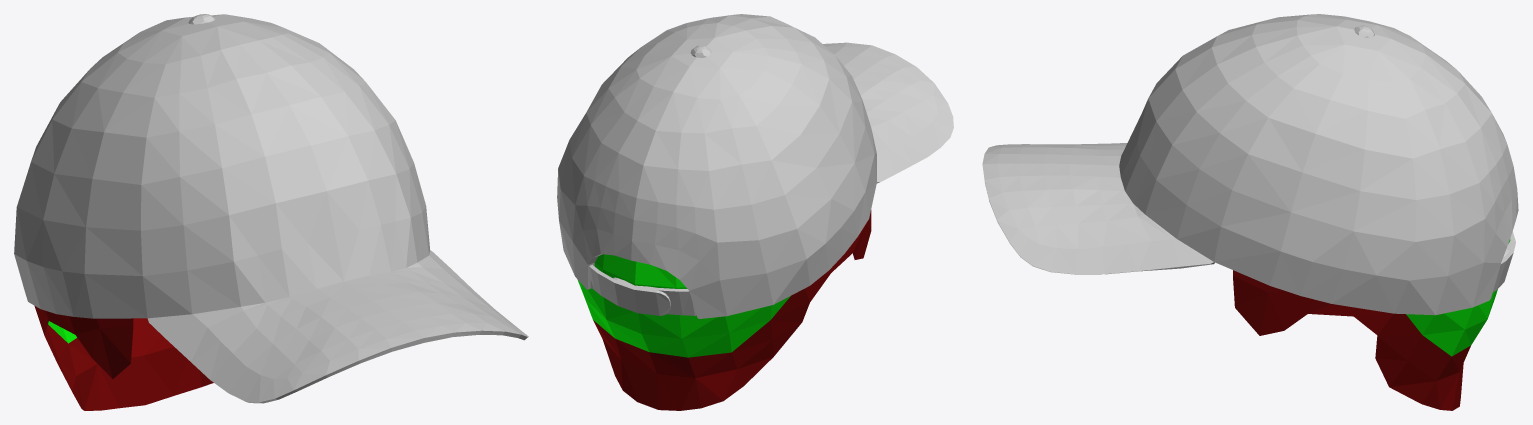
Rendered from BaseballHat_Hair_03.obj.
3 renders of one model, left to right at view 1: azimuth 30°, elevation 25°; view 2: azimuth 150°, elevation 25°; view 3: azimuth 270°, elevation 25°, orthographic. The views are drawn at different scales.
Bounding box in the file's own units: 16.23 × 19.74 × 25.88.
